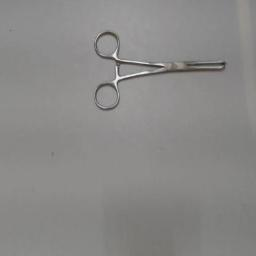Allis Tissue Forceps: (90, 27, 232, 119)
